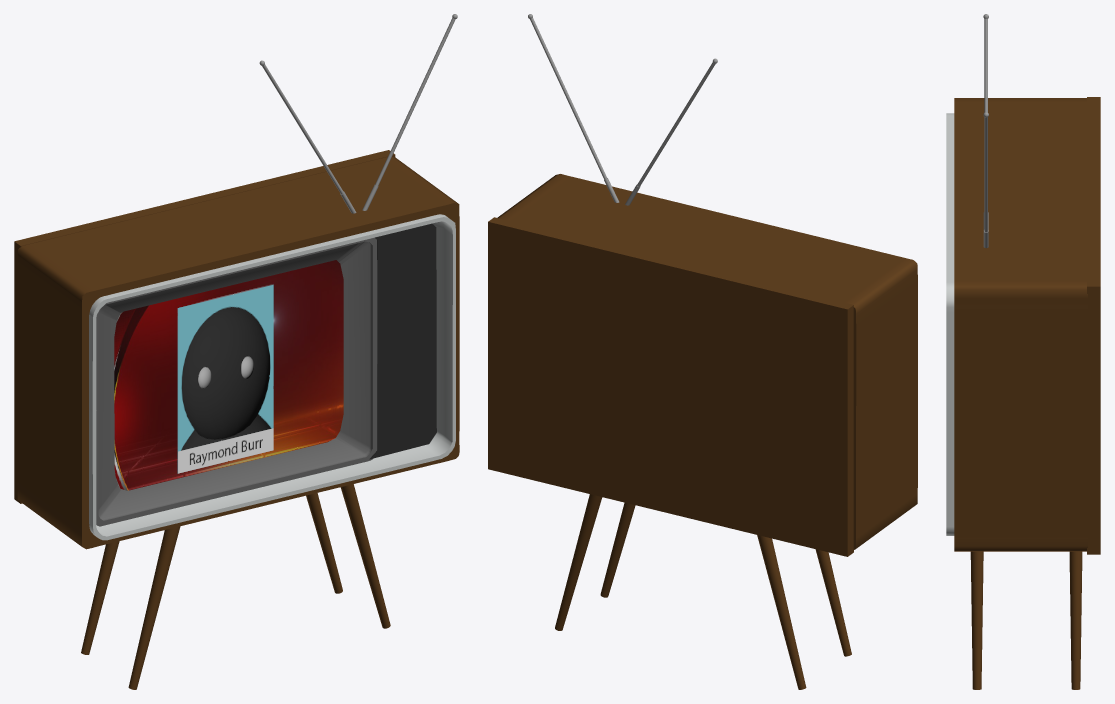
The model's file is TV_with_ad.fbx.
The picture shows the model from 3 angles, left to right: view 1: azimuth 30°, elevation 25°; view 2: azimuth 150°, elevation 25°; view 3: azimuth 270°, elevation 25°; orthographic projection. The views are drawn at different scales.
Parts seen in each view (by area): view 1: TV; view 2: TV; view 3: TV.
Part boxes in pixels (x1=…): TV: x1=14, y1=14, x2=459, y2=689; TV: x1=488, y1=14, x2=917, y2=689; TV: x1=946, y1=14, x2=1100, y2=689.
Size of the model in its own units: 11.98 by 17.36 by 3.94.
